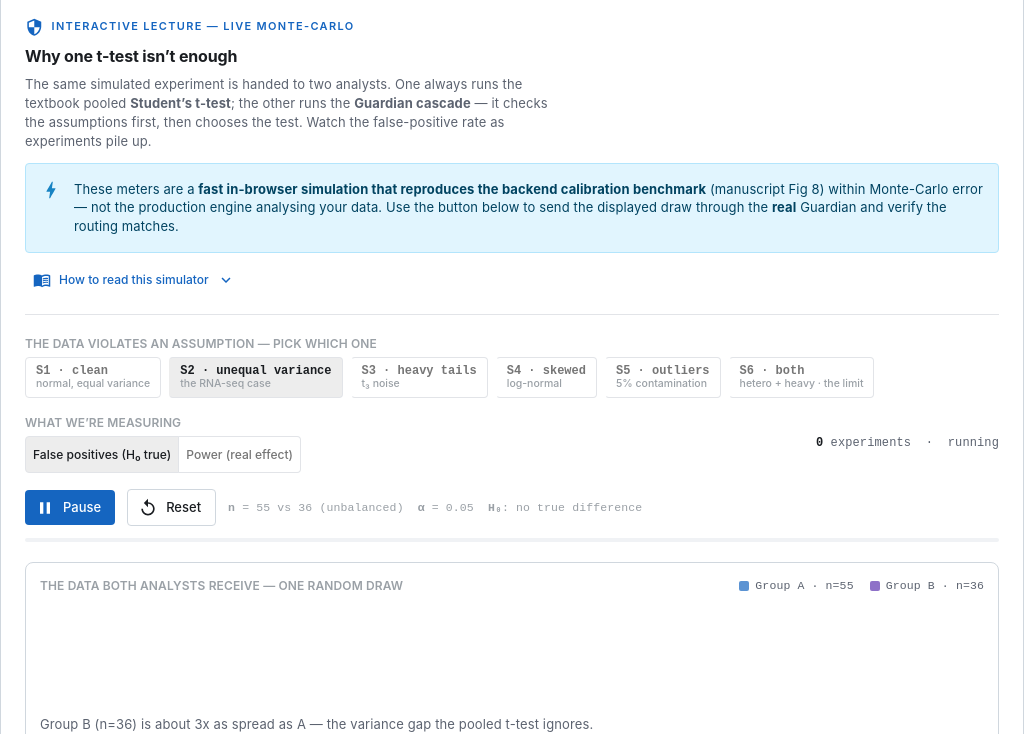
Test: GuardianCascadeSimulator › reveals the "How to read this" guide when the toggle is pressed
This screenshot has width=1024, height=734.
Click the button "How to read this simulator" at (134, 280), box [25,265,243,294]
(page scrolled)
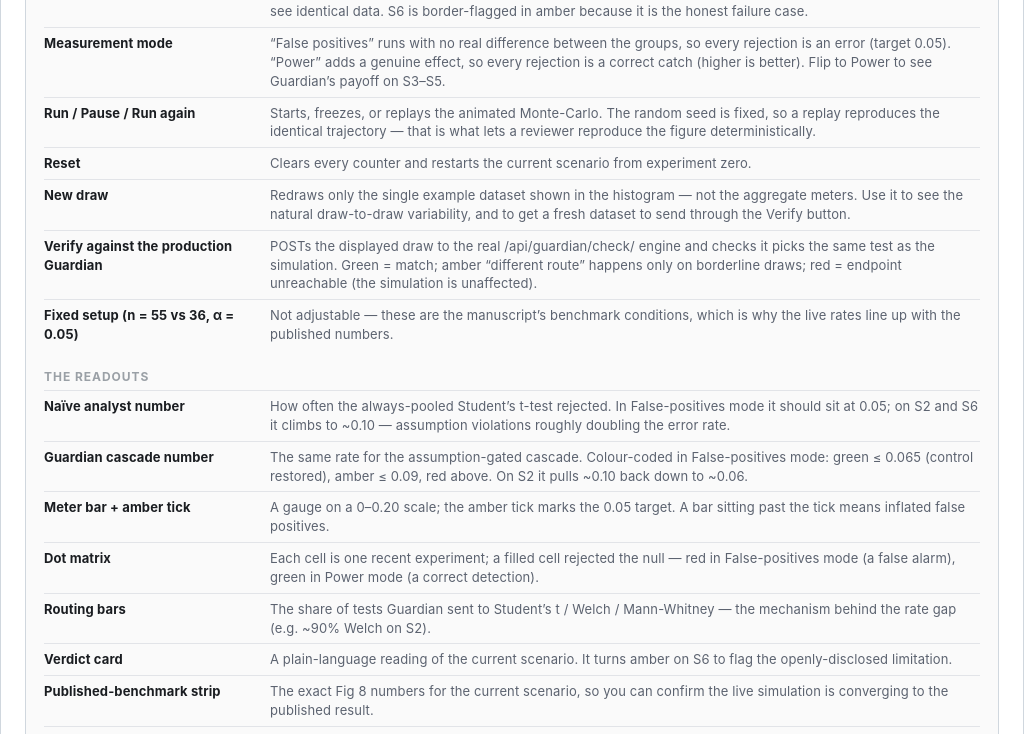
Result: the text "THE READOUTS" is shown at [44,369,149,384]
